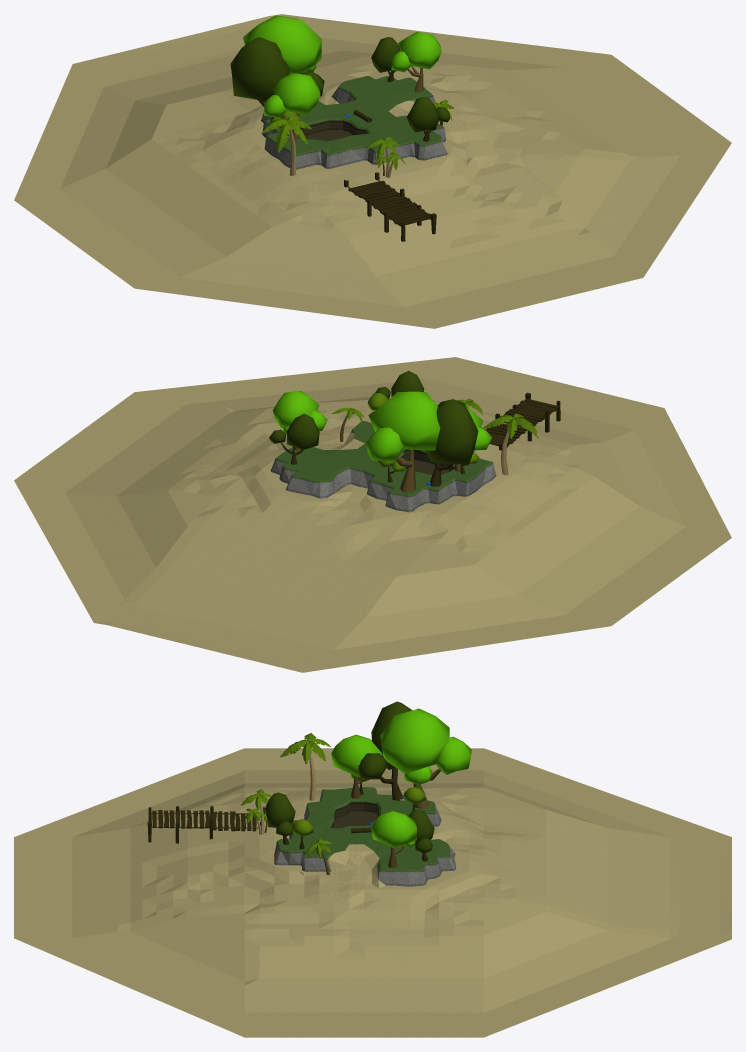
Rendered from starter_island.glb.
The picture shows the model from 3 angles, top to bottom: view 1: azimuth 30°, elevation 25°; view 2: azimuth 150°, elevation 25°; view 3: azimuth 270°, elevation 25°; orthographic projection.
Parts seen in each view (by area): view 1: starter_island, tree3.002, tree_1.003, dock.001, tree_1.002, tree_1.001, tree3.001, plam_tree.003, tree3.003; view 2: starter_island, tree_1.003, tree3.002, dock.001, tree_1.001, tree3.003, plam_tree.003, tree3.001; view 3: starter_island, tree_1.003, dock.001, tree3.002, tree_1.001, tree_1.002, tree3.001, plam_tree.003, tree3.003.
Boxes of the visible parts, left/top/right/bottom form: starter_island: left=14, top=14, right=731, bottom=328; tree3.002: left=230, top=37, right=324, bottom=121; tree_1.003: left=243, top=15, right=321, bottom=73; dock.001: left=344, top=172, right=436, bottom=241; tree_1.002: left=264, top=73, right=320, bottom=140; tree_1.001: left=391, top=32, right=441, bottom=92; tree3.001: left=407, top=96, right=449, bottom=141; plam_tree.003: left=261, top=115, right=311, bottom=175; tree3.003: left=371, top=37, right=400, bottom=81; starter_island: left=14, top=357, right=731, bottom=672; tree_1.003: left=366, top=391, right=440, bottom=492; tree3.002: left=425, top=399, right=478, bottom=486; dock.001: left=484, top=392, right=560, bottom=450; tree_1.001: left=272, top=391, right=327, bottom=450; tree3.003: left=269, top=413, right=319, bottom=464; plam_tree.003: left=483, top=413, right=538, bottom=475; tree3.001: left=374, top=370, right=424, bottom=398; starter_island: left=14, top=748, right=731, bottom=1037; tree_1.003: left=380, top=708, right=471, bottom=809; dock.001: left=147, top=806, right=264, bottom=843; tree3.002: left=358, top=701, right=412, bottom=800; tree_1.001: left=370, top=810, right=416, bottom=867; tree_1.002: left=331, top=734, right=382, bottom=798; tree3.001: left=265, top=792, right=295, bottom=844; plam_tree.003: left=280, top=733, right=330, bottom=800; tree3.003: left=408, top=809, right=434, bottom=861.
Size of the model in its own units: 153 by 53.04 by 161.
Materials: 20 (6 with a texture image).
